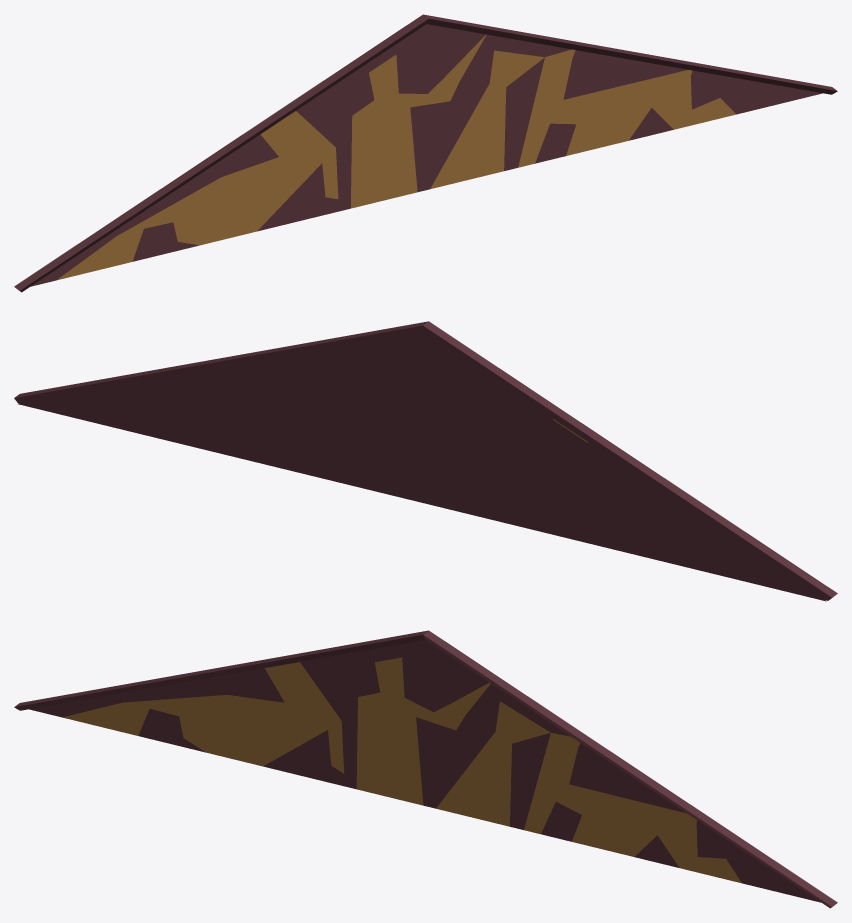
The model's file is SM_Wall_Vertical_Symbol_12m_Empire.fbx.
The picture shows the model from 3 angles, top to bottom: view 1: azimuth 30°, elevation 25°; view 2: azimuth 150°, elevation 25°; view 3: azimuth 330°, elevation 25°; orthographic projection.
Visible parts, largest first — view 1: SM_Wall_Vertical_Symbol_12m_Empire; view 2: SM_Wall_Vertical_Symbol_12m_Empire; view 3: SM_Wall_Vertical_Symbol_12m_Empire.
Boxes of the visible parts, x1=… form: SM_Wall_Vertical_Symbol_12m_Empire: x1=14, y1=14, x2=837, y2=292; SM_Wall_Vertical_Symbol_12m_Empire: x1=14, y1=321, x2=837, y2=601; SM_Wall_Vertical_Symbol_12m_Empire: x1=14, y1=630, x2=837, y2=908.
Size of the model in its own units: 12.13 by 2.5 by 0.1747.
